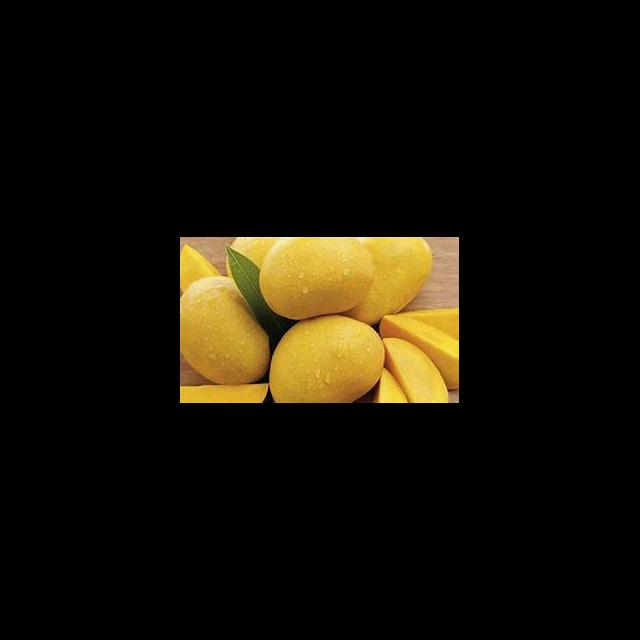mango: (270, 315, 385, 403), (180, 276, 270, 384), (260, 238, 373, 320), (345, 237, 433, 324), (380, 309, 460, 389), (383, 338, 449, 403)
